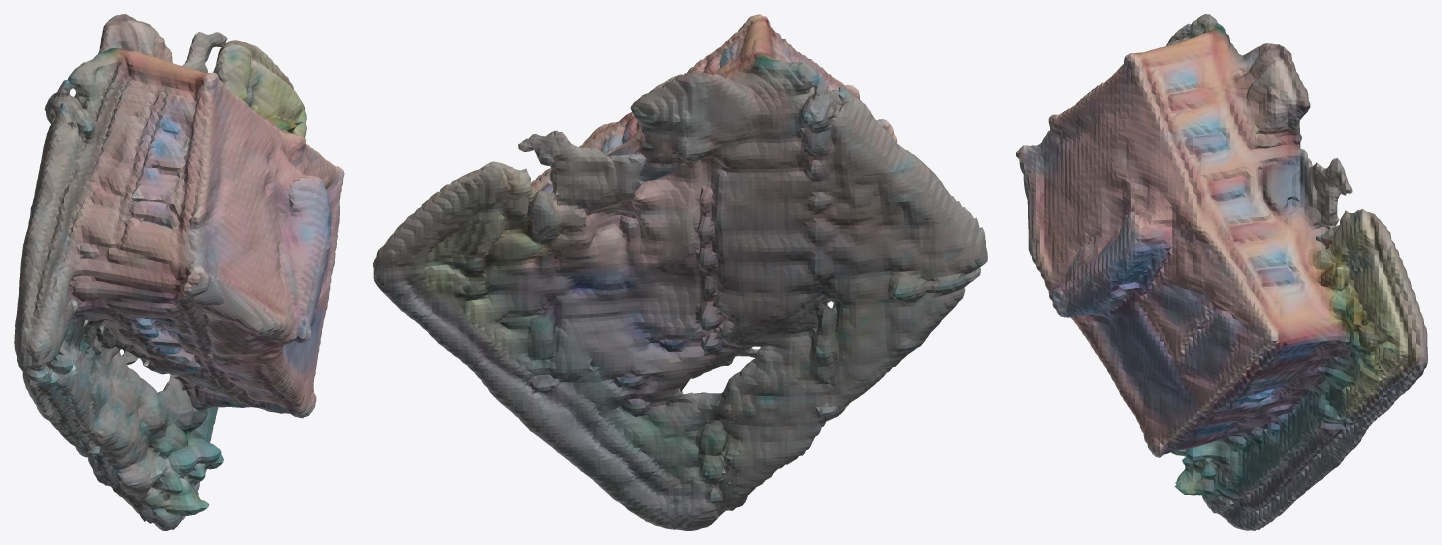
3 renders of one model, left to right at view 1: azimuth 30°, elevation 25°; view 2: azimuth 150°, elevation 25°; view 3: azimuth 270°, elevation 25°, orthographic. The views are drawn at different scales.
Parts seen in each view (by area): view 1: world; view 2: world; view 3: world.
Boxes of the visible parts, left/top/right/bottom form: world: left=14, top=14, right=344, bottom=530; world: left=373, top=14, right=987, bottom=530; world: left=1016, top=14, right=1427, bottom=530.
Size of the model in its own units: 0.815 by 0.8498 by 0.6802.
